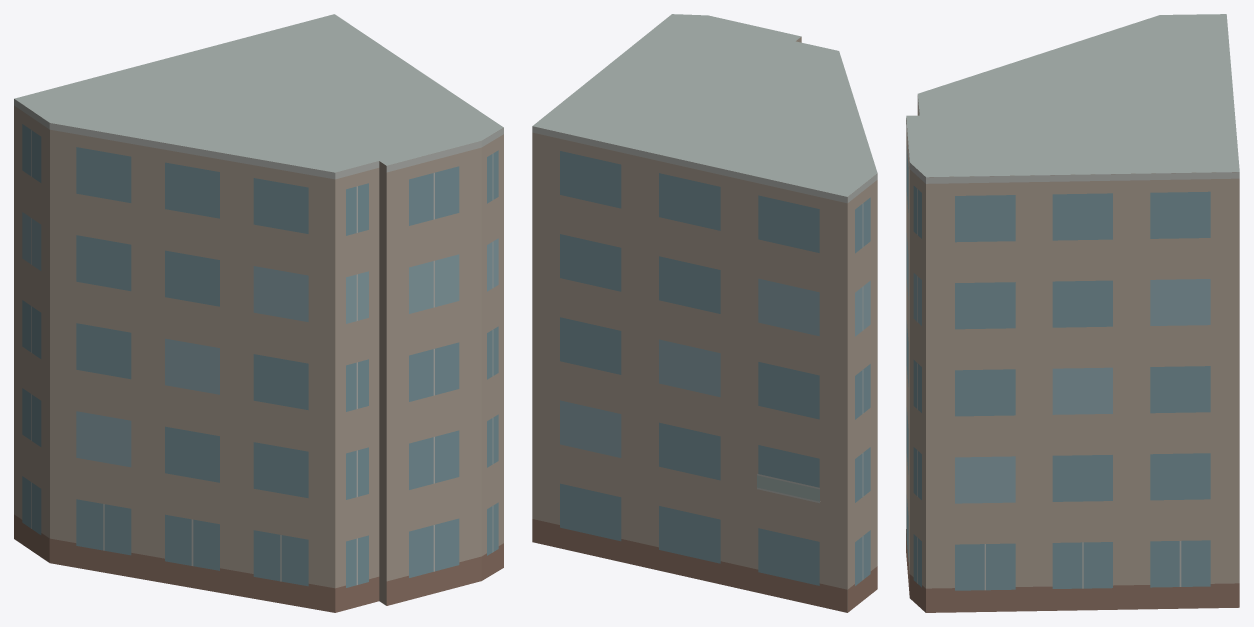
Rendered from survey-upis-32739802.glb.
3 renders of one model, left to right at view 1: azimuth 30°, elevation 25°; view 2: azimuth 150°, elevation 25°; view 3: azimuth 270°, elevation 25°, orthographic. The views are drawn at different scales.
Parts seen in each view (by area): view 1: survey-upis-32739802.tmp; view 2: survey-upis-32739802.tmp; view 3: survey-upis-32739802.tmp.
Boxes of the visible parts, bbox=[...] form: survey-upis-32739802.tmp: bbox=[14, 14, 503, 612]; survey-upis-32739802.tmp: bbox=[532, 14, 877, 612]; survey-upis-32739802.tmp: bbox=[906, 14, 1239, 612].
Size of the model in its own units: 12.78 by 15.9 by 11.05.
